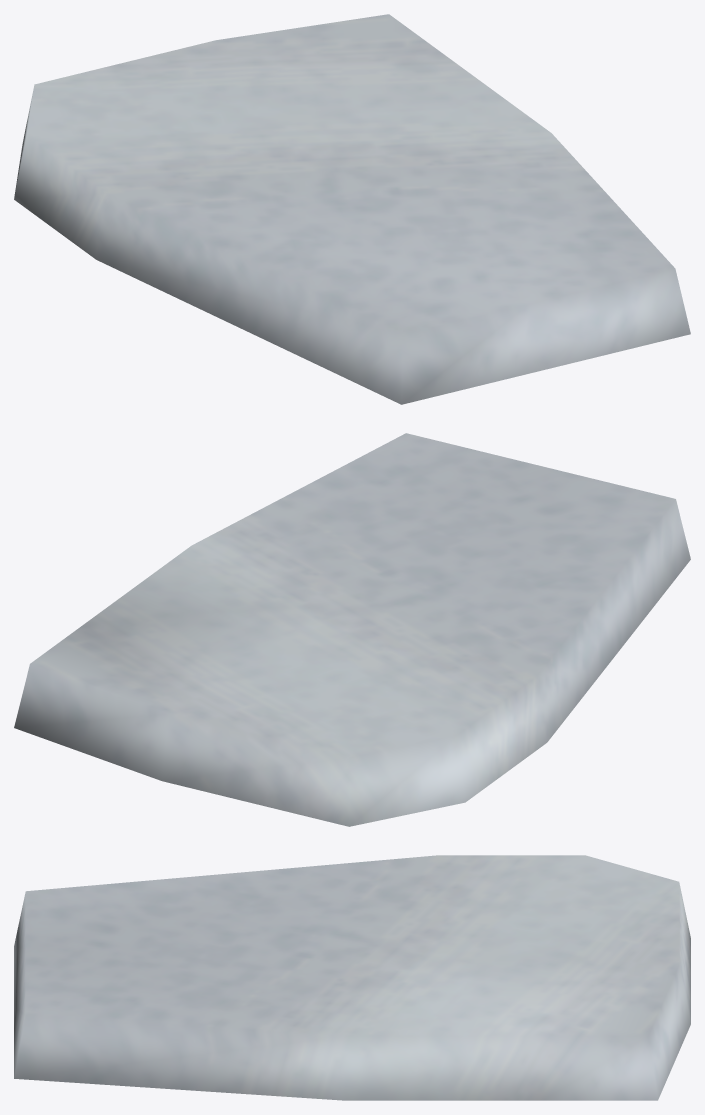
File: Temple_Stone_4_Snow.fbx
3 views of the same model, one above another, from view 1: azimuth 30°, elevation 25°; view 2: azimuth 150°, elevation 25°; view 3: azimuth 270°, elevation 25° (orthographic). The views are drawn at different scales.
Visible parts, largest first — view 1: Temple_Stone_4_Snow; view 2: Temple_Stone_4_Snow; view 3: Temple_Stone_4_Snow.
Part boxes in pixels (x1=…): Temple_Stone_4_Snow: x1=14, y1=14, x2=690, y2=404; Temple_Stone_4_Snow: x1=14, y1=433, x2=690, y2=826; Temple_Stone_4_Snow: x1=14, y1=855, x2=690, y2=1100.
Bounding box in the file's own units: 100 × 14.5 × 150.
